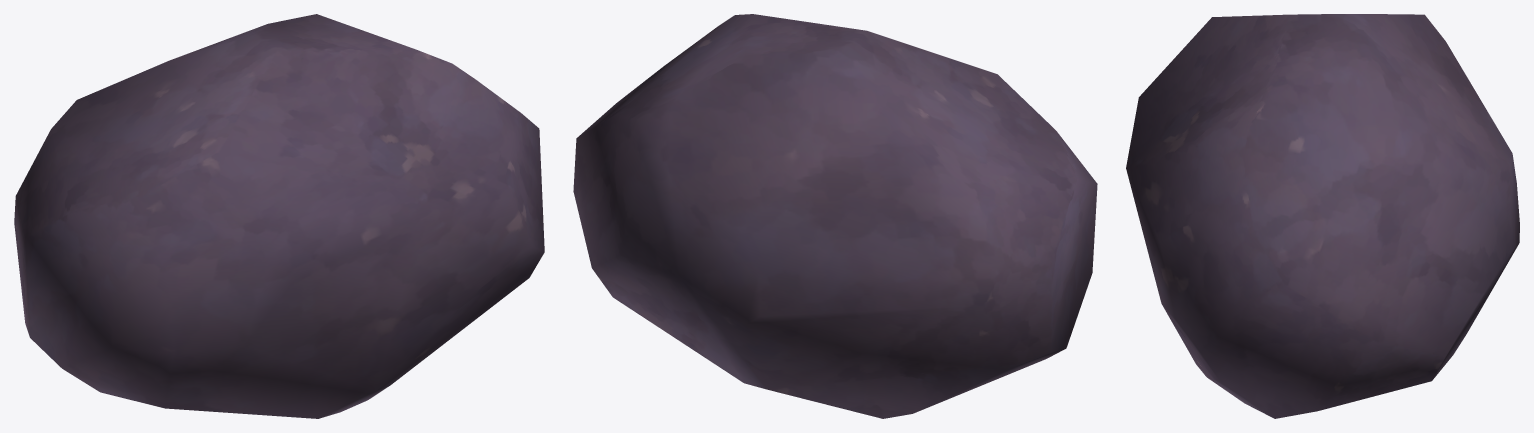
The model's file is Rock03.fbx.
3 renders of one model, left to right at view 1: azimuth 30°, elevation 25°; view 2: azimuth 150°, elevation 25°; view 3: azimuth 270°, elevation 25°, orthographic. The views are drawn at different scales.
Parts seen in each view (by area): view 1: Rock03_LP; view 2: Rock03_LP; view 3: Rock03_LP.
Part boxes in pixels (x1=…): Rock03_LP: x1=14, y1=14, x2=544, y2=418; Rock03_LP: x1=573, y1=14, x2=1097, y2=418; Rock03_LP: x1=1126, y1=14, x2=1519, y2=418.
Size of the model in its own units: 2720 by 1900 by 1876.
